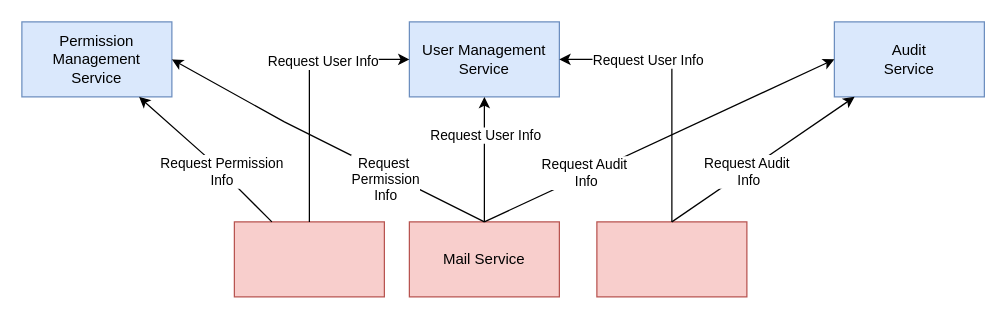
The diagram is 1006 pixels wide and 319 high, and some of its shapes have lost their labels. The shapes that lost their labels are listed below. From the top down, each one's box as (x1, y1, x2, y2) in pixels, then its label:
(233, 221, 384, 297): Accounting Service
(596, 221, 747, 297): Statistics Service
